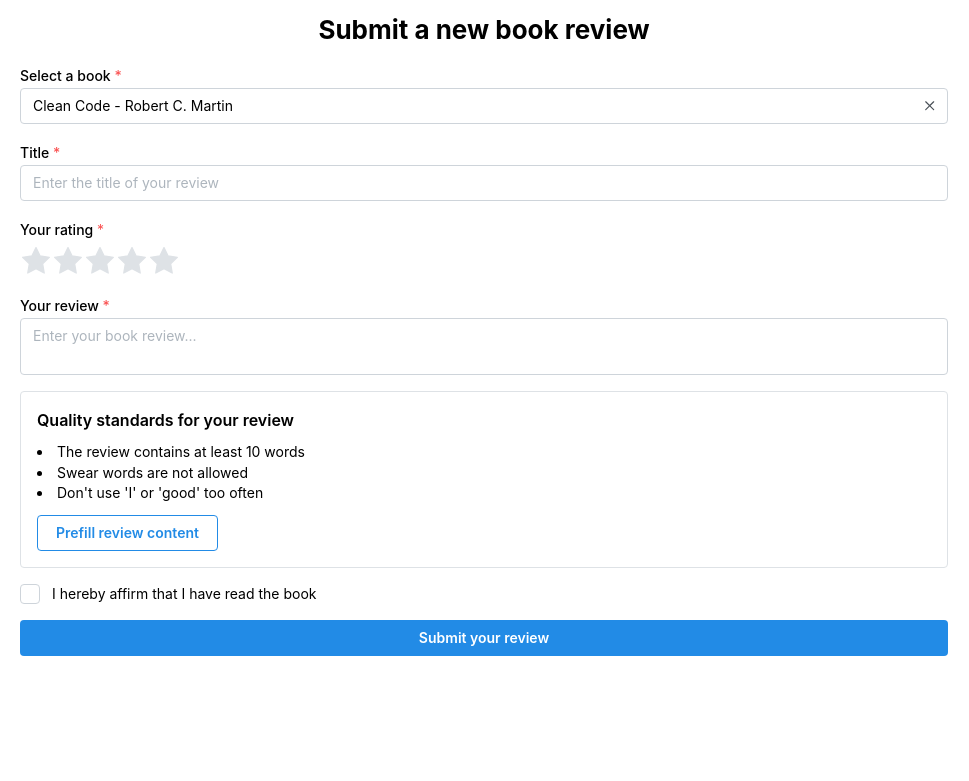
Test: SubmitReviewContainer — submission › shows success alert after a successful submission (201)
In the field labelled "Title *": [484, 183] box [20,165,948,201], type "A must-read for every developer"
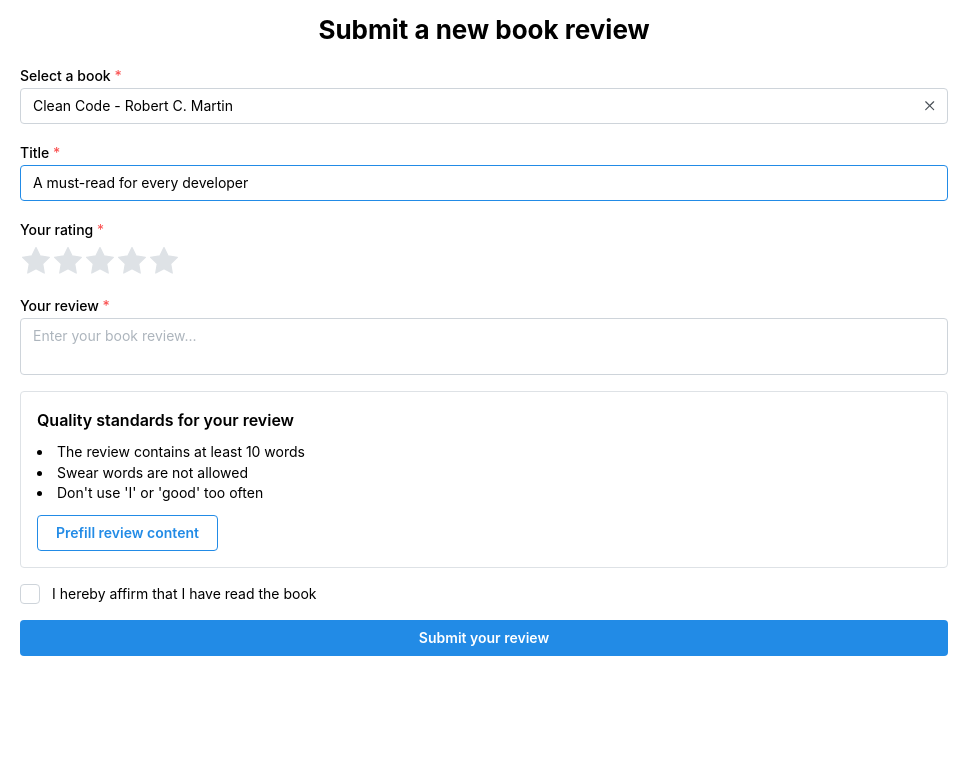
Click the 6th radio button: [164, 262] box [148,246,180,278]
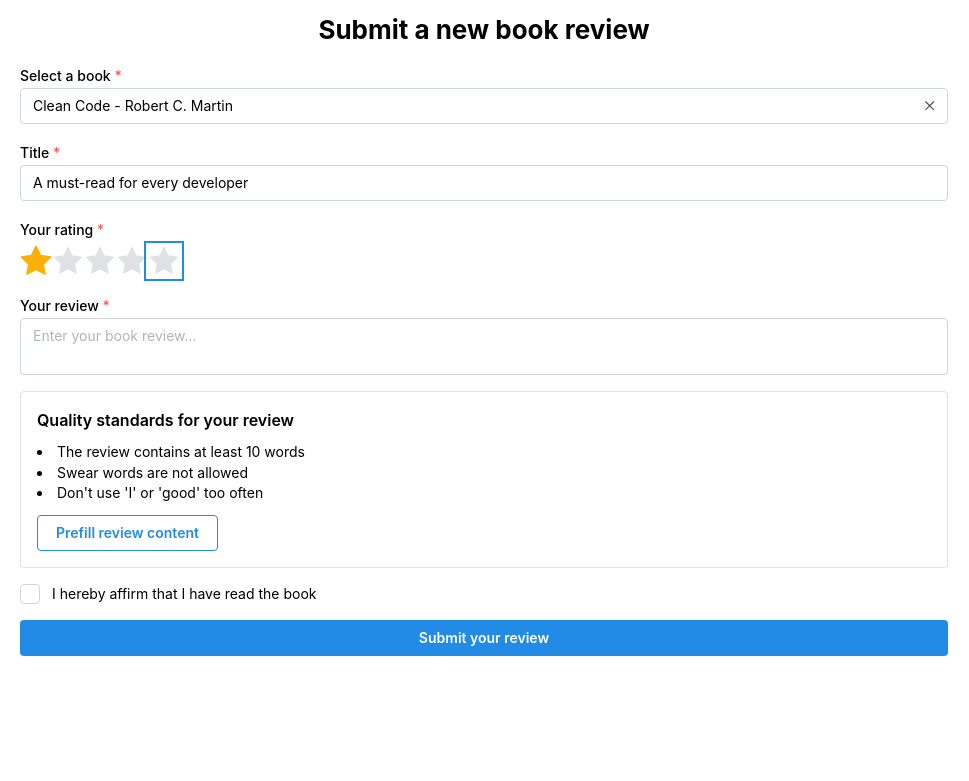
In the text box labelled "Your review *": [484, 346] box [20,318,948,375], type "This is an excellent book that every software engineer should read."
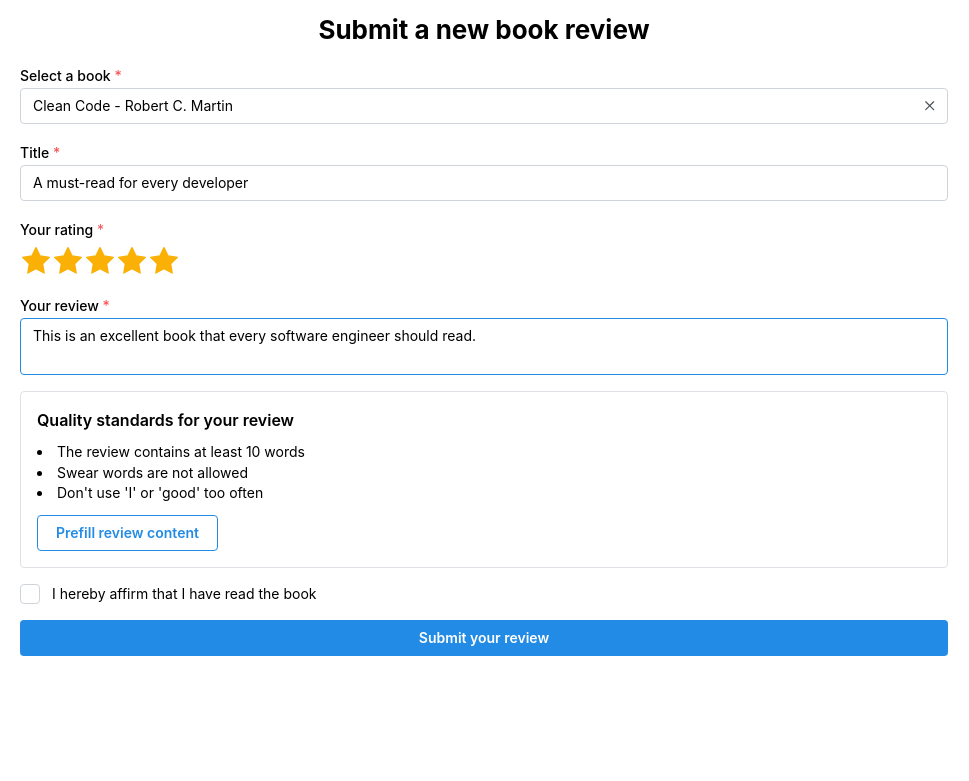
Click the checkbox: [30, 594] box [20,584,40,604]
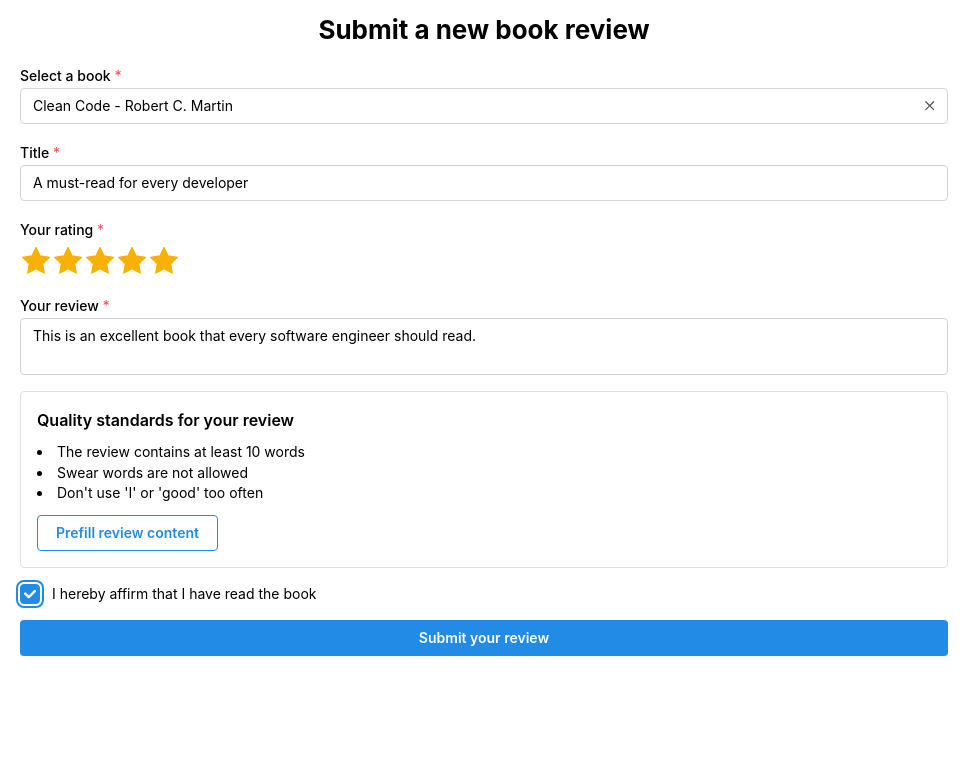
Click the button "Submit your review": [484, 638] box [20,620,948,656]
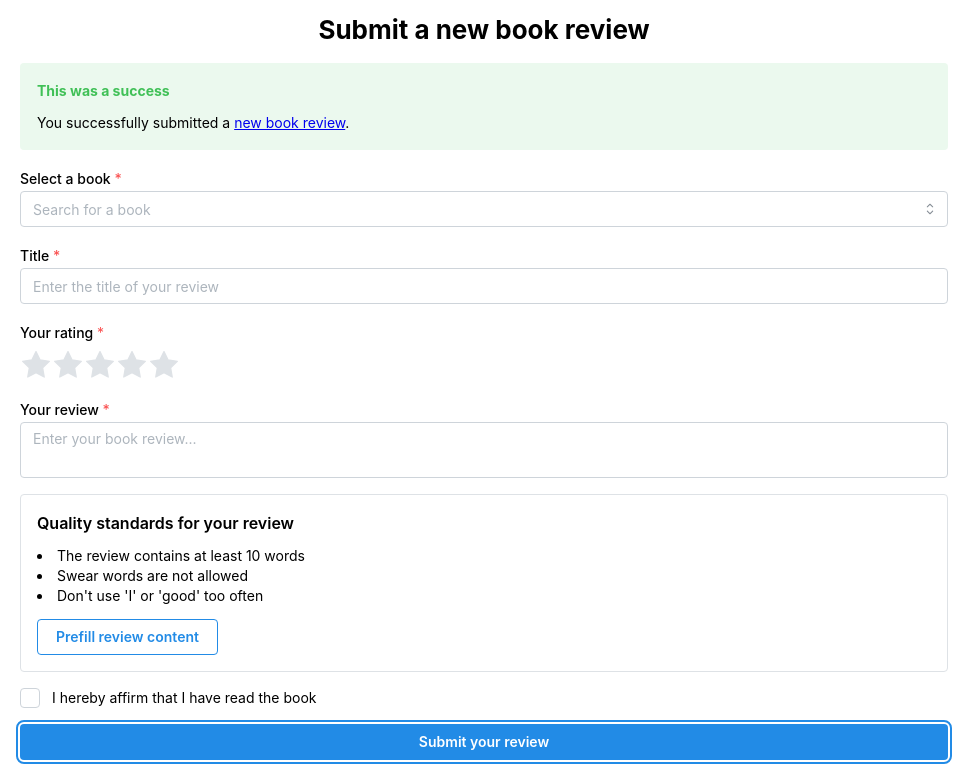
Expected: the text "This was a success" is shown, [37,80,170,102]
Expected: the text "You successfully submitted a new book review ." is shown, [37,114,349,131]
